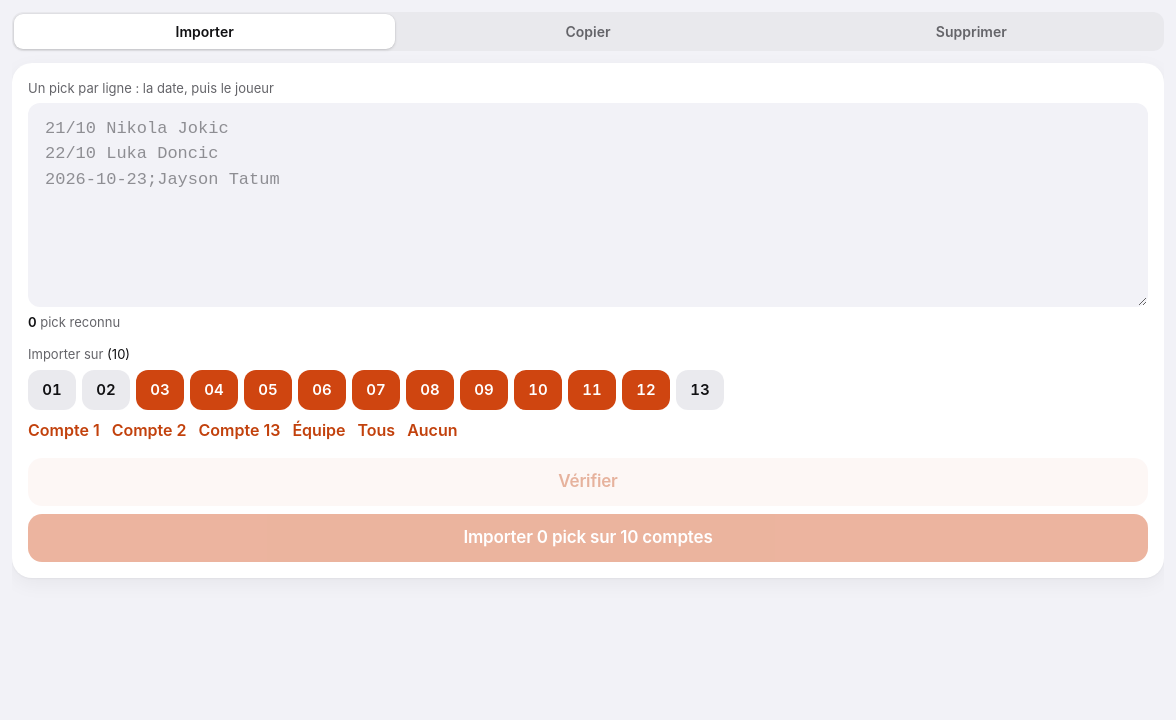
Test: Importer des picks › modifier le texte ou les comptes APRÈS vérification reverrouille l'écriture
The width and height of the screenshot is (1176, 720).
Click the text box named "Picks à importer". click: (588, 205)
box: [28,102,1148,307]
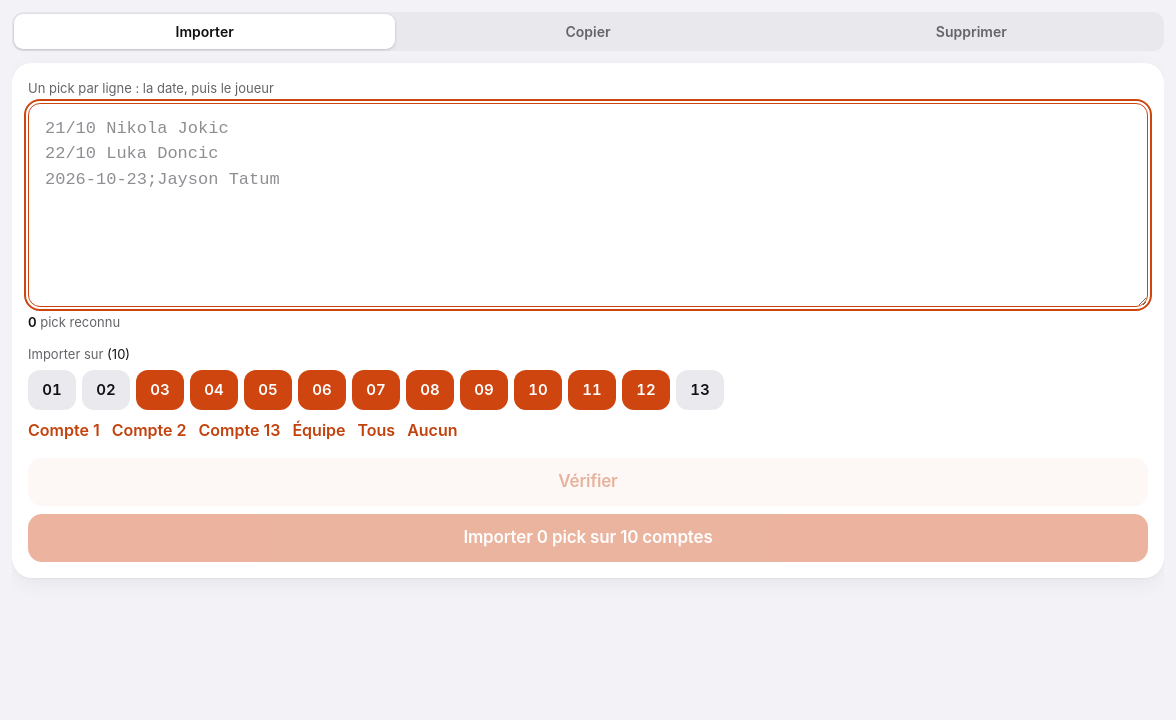
Type keys "21/10 Nikola Jokic"
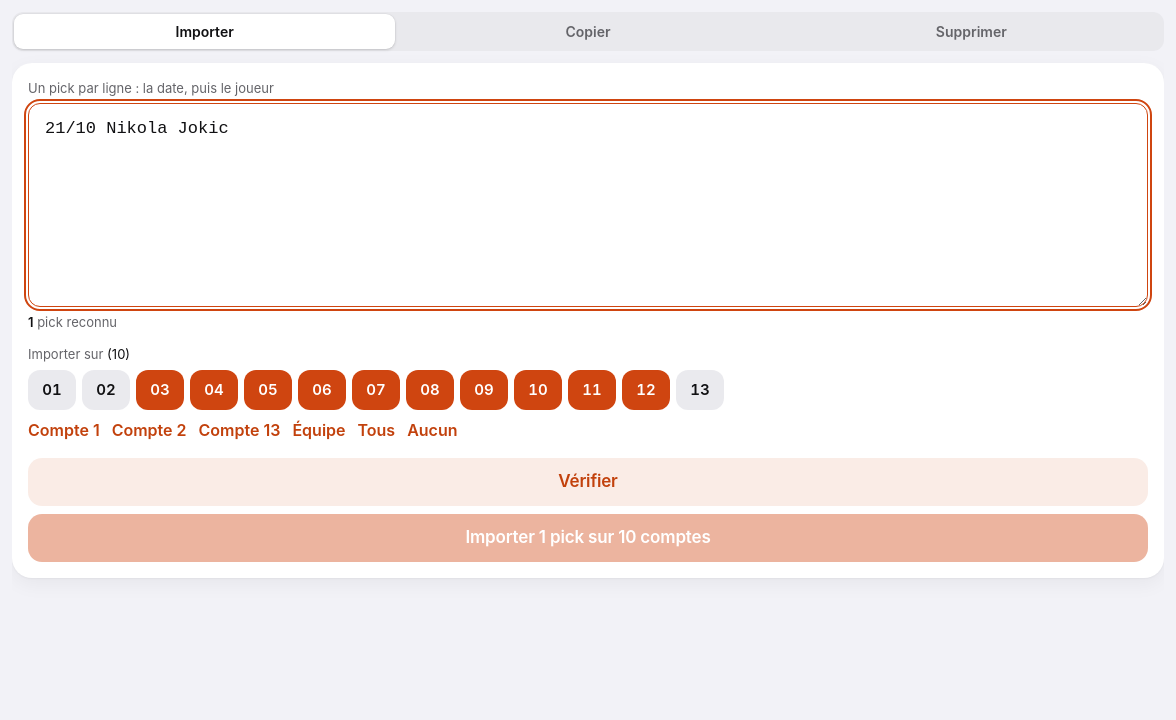
Click the button "Vérifier". click: (588, 482)
box: [28,458,1148,506]
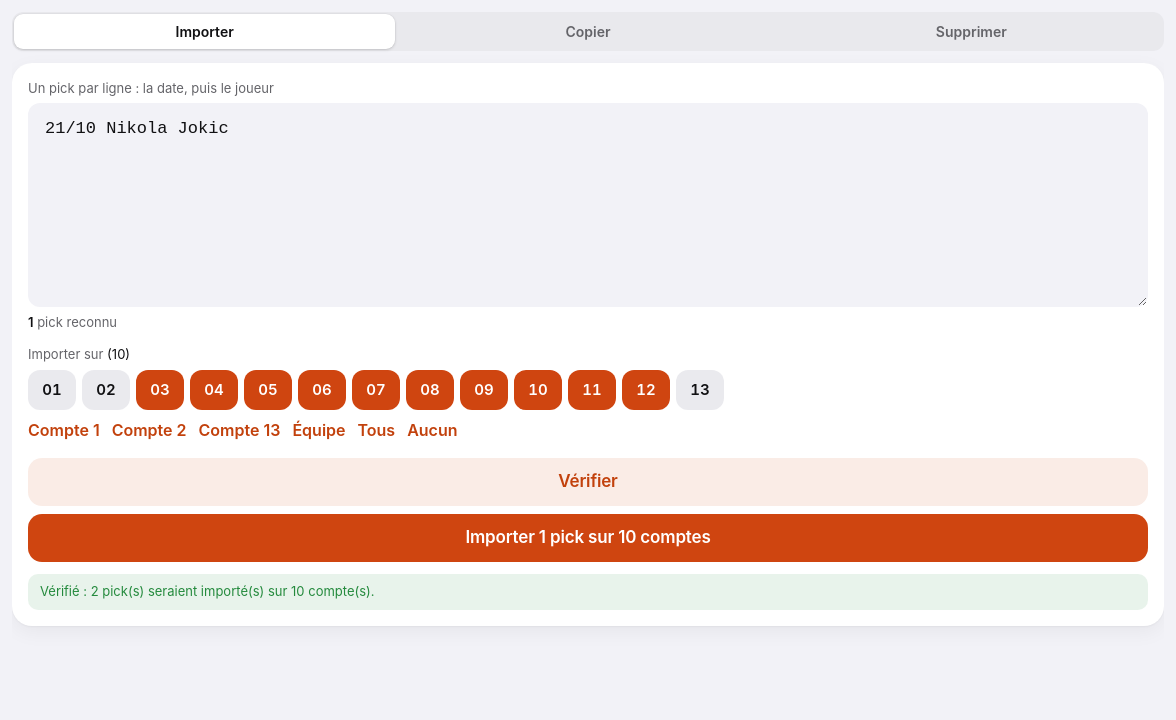
Expected: the button "Importer 1 pick sur 10 comptes" is enabled, [28,514,1148,562]
Click the button named "Compte 03". click: (160, 390)
box: [136,370,184,410]
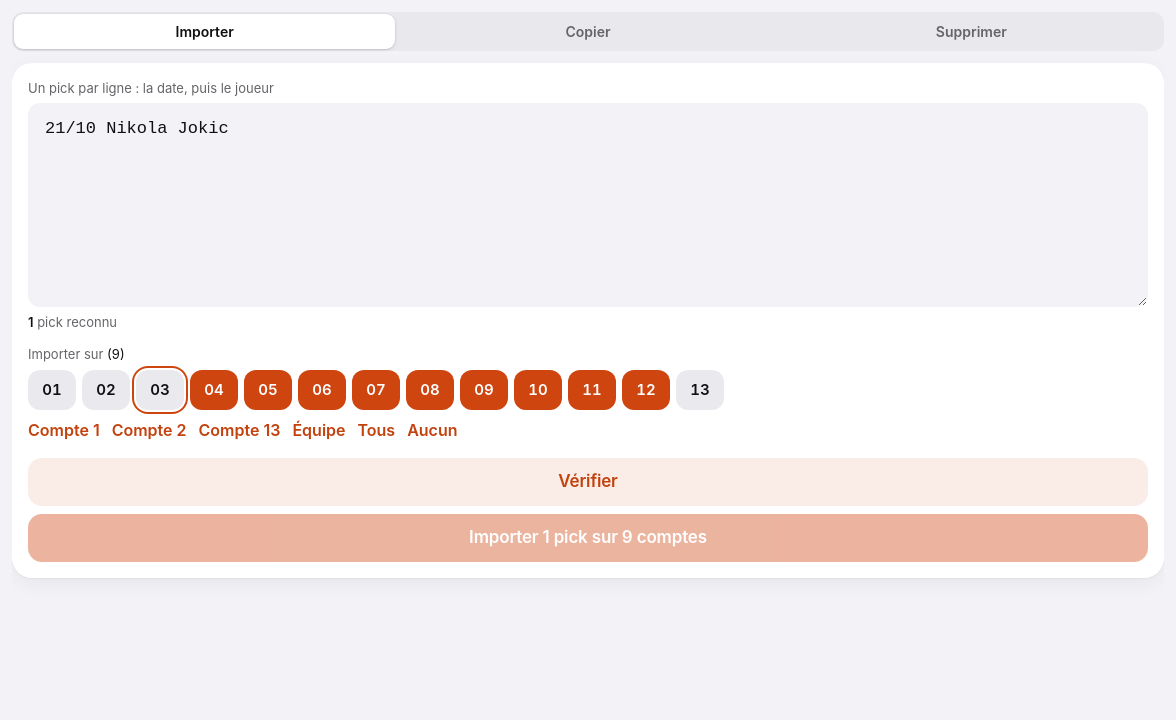
Expected: the button "Importer 1 pick sur 9 comptes" is disabled, [28,514,1148,562]
